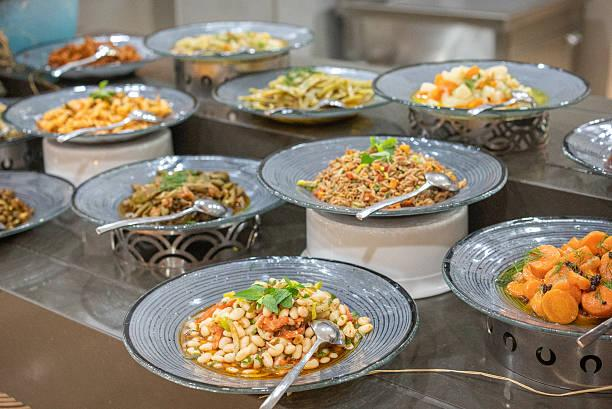Braised Crucian Carp: (123, 254, 416, 396), (256, 134, 503, 217), (72, 153, 282, 233), (373, 58, 590, 118), (3, 83, 194, 144), (214, 65, 386, 125), (144, 20, 310, 63), (15, 33, 162, 81)
